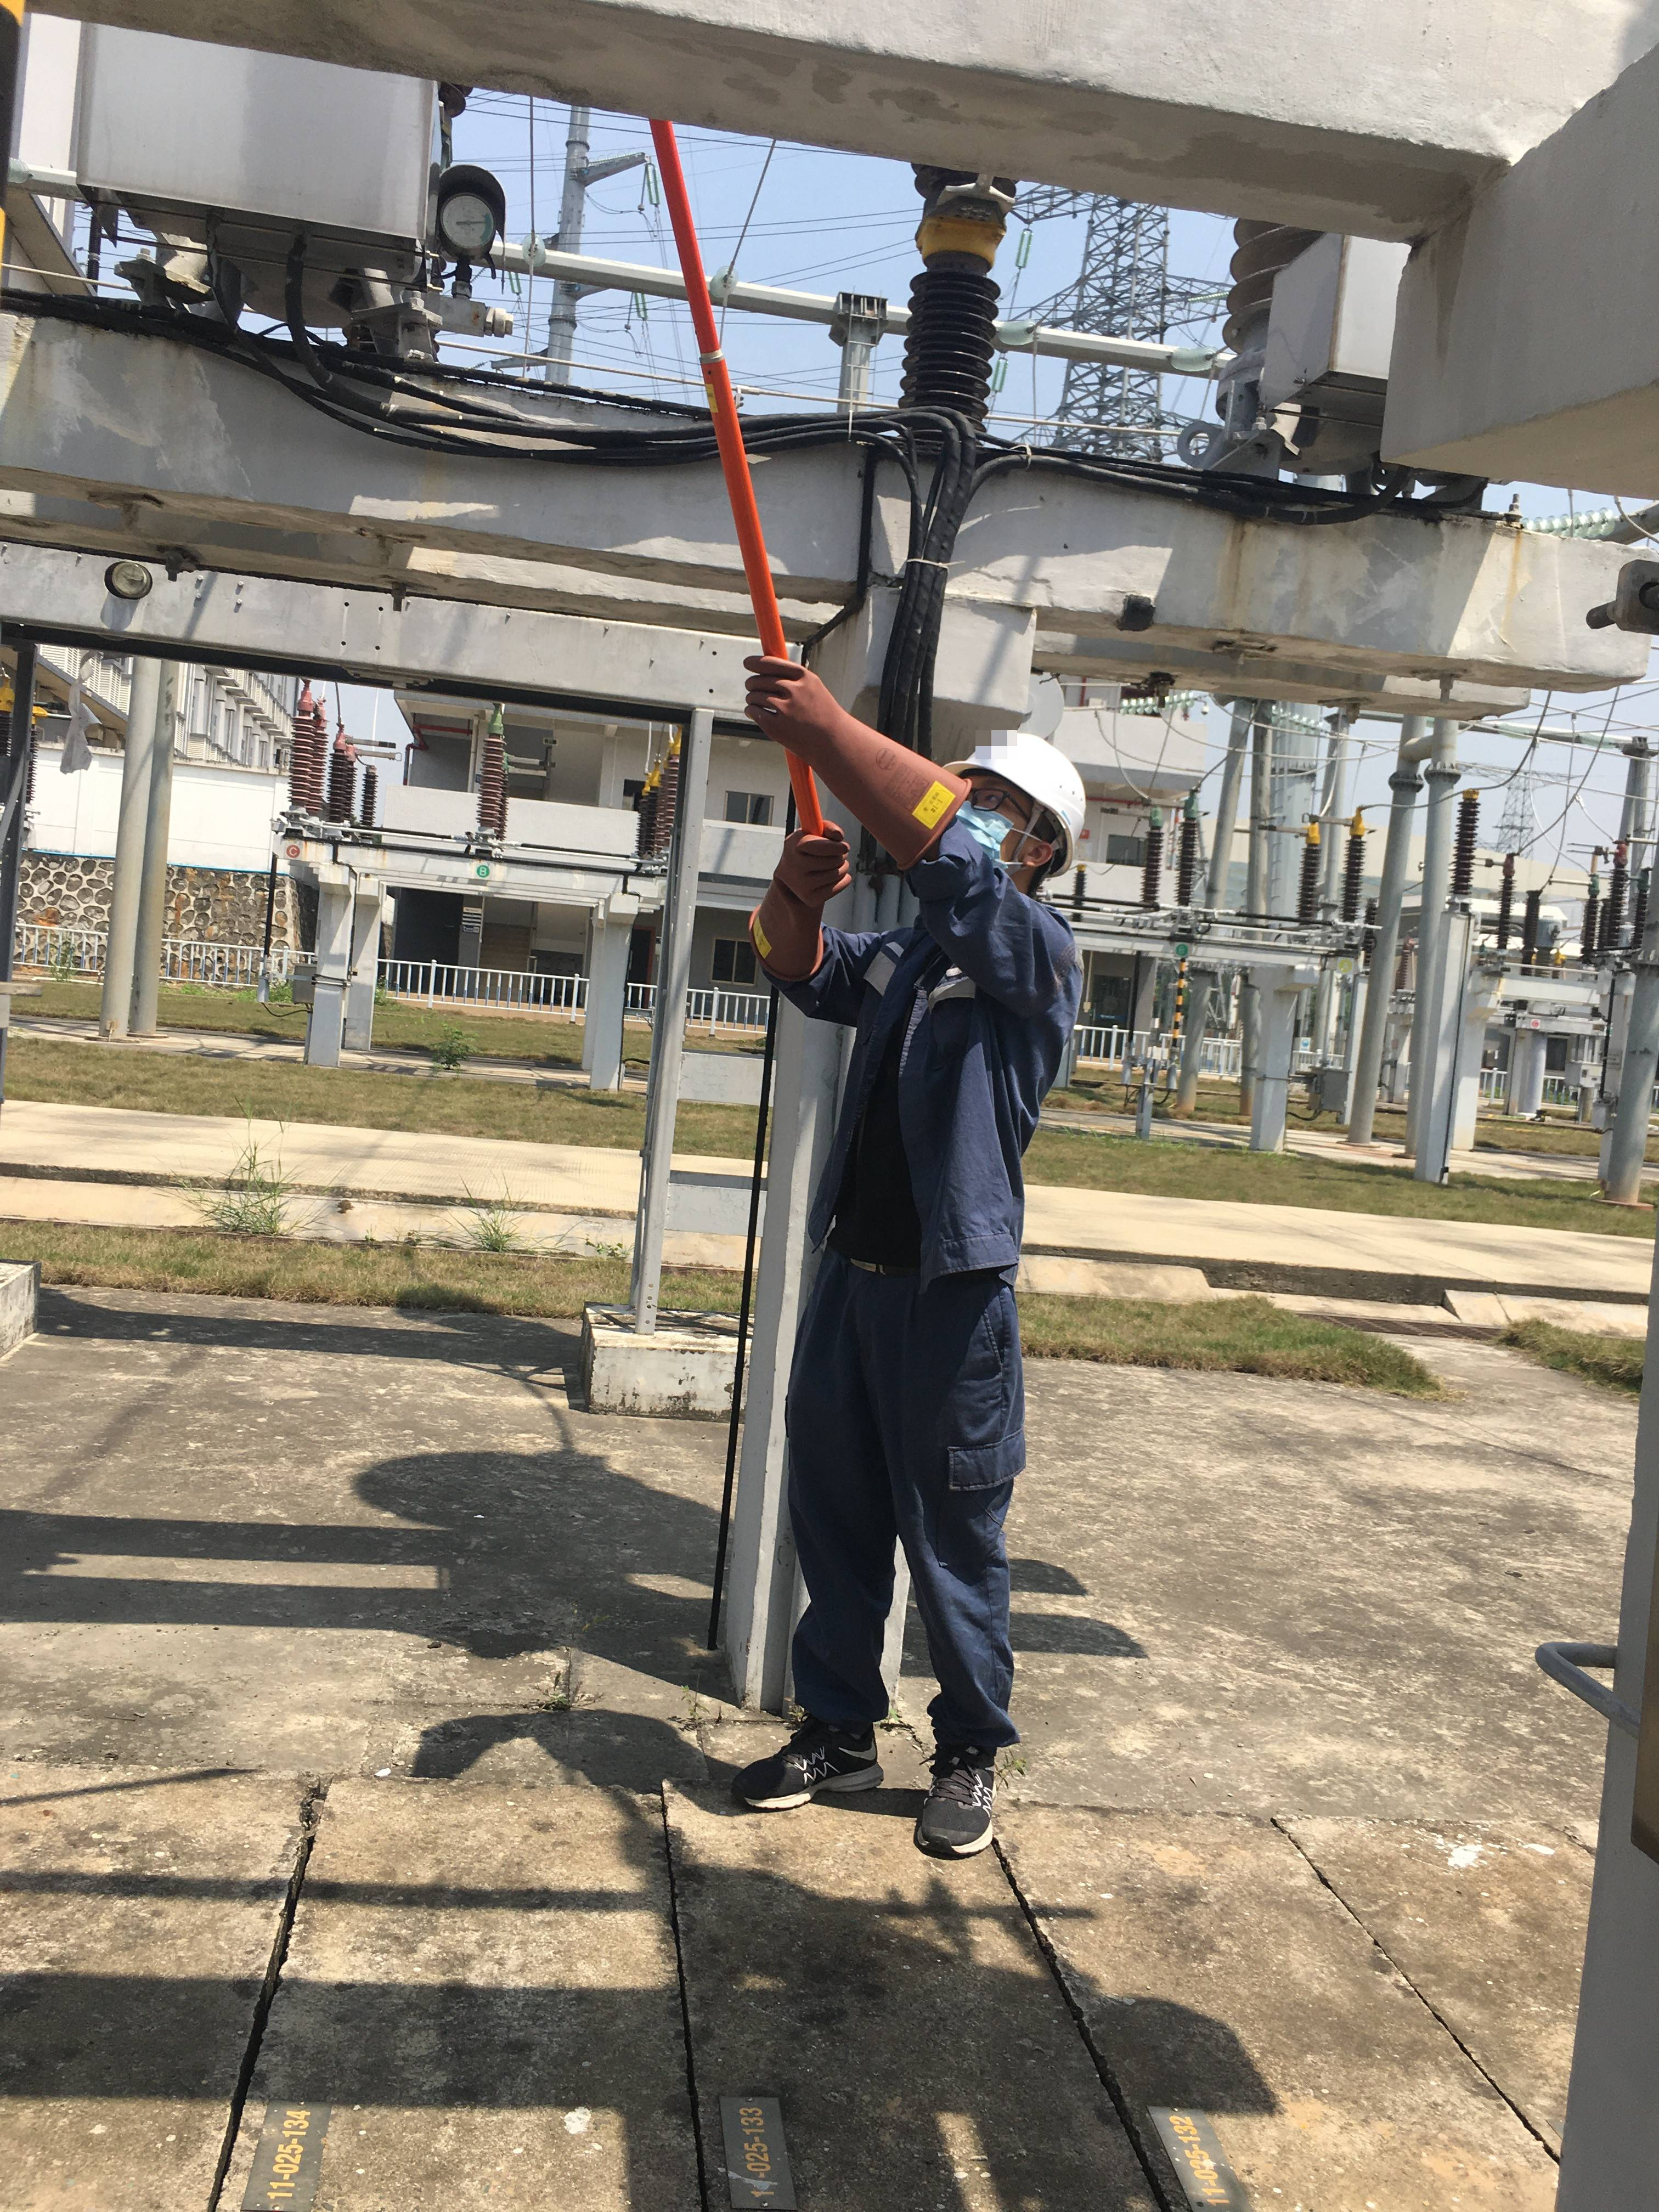downsuit: (772, 1289, 1037, 1782)
upsuit: (803, 907, 1051, 1273)
wrongsuit: (836, 949, 962, 1249)
